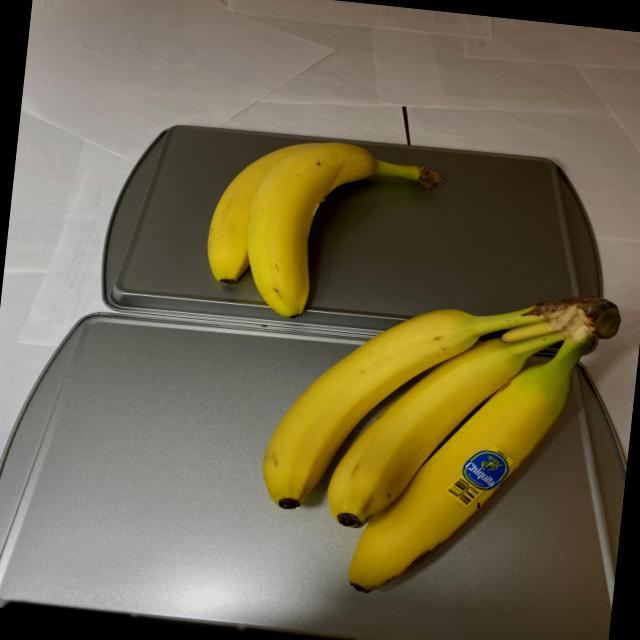banana: (243, 262, 627, 622), (189, 127, 452, 330)
